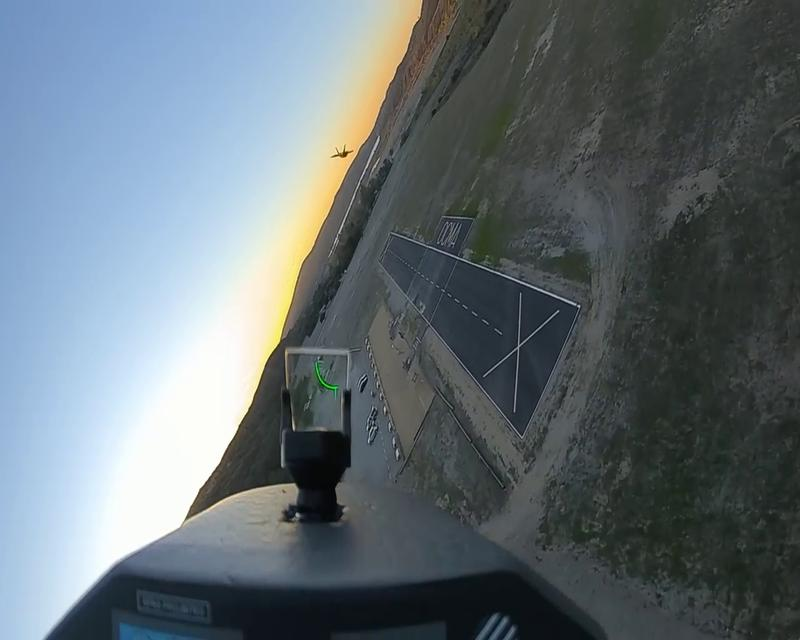UAV: (330, 143, 354, 160)
